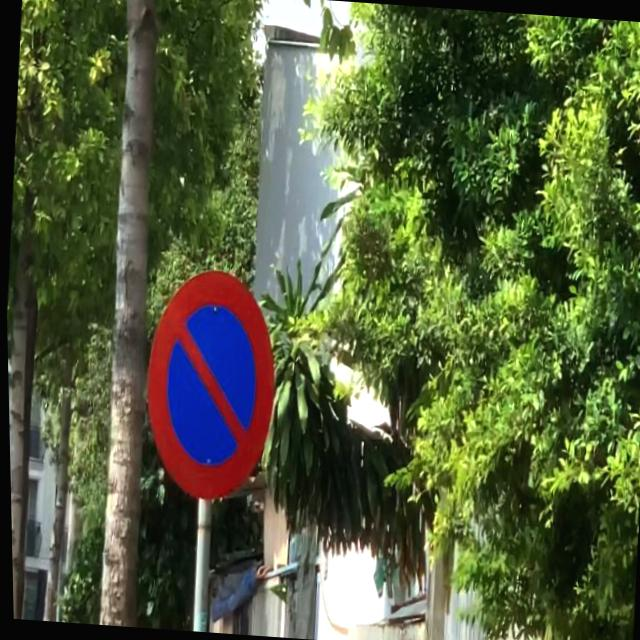Cam do xe: (135, 264, 284, 504)
